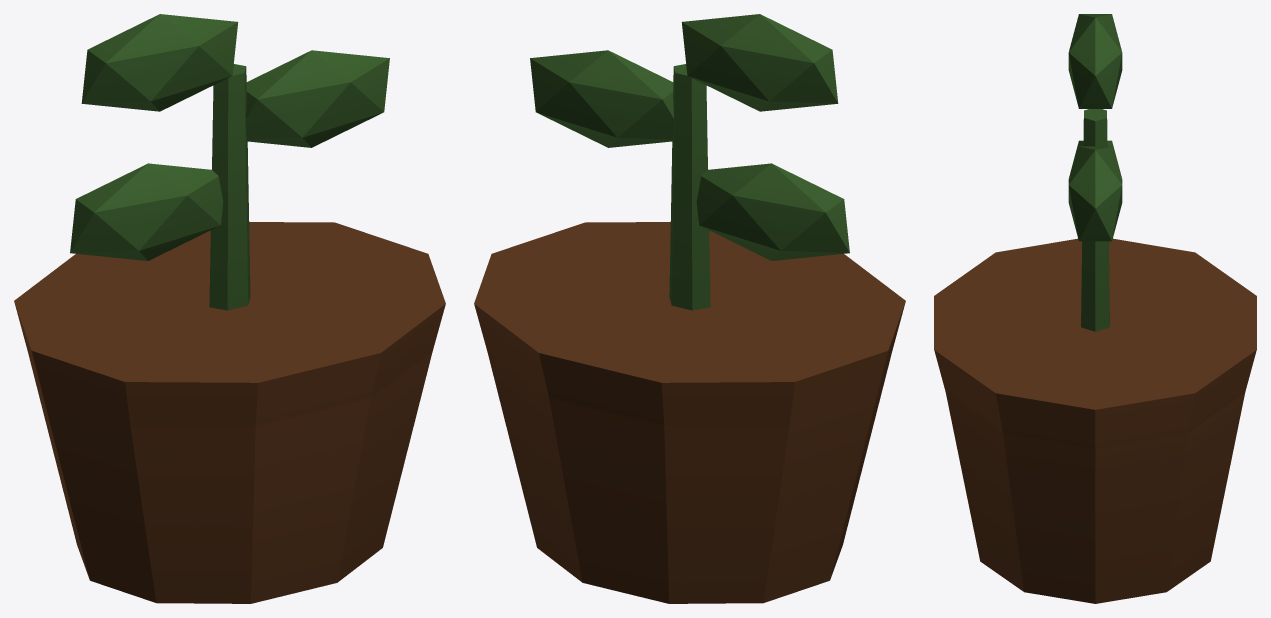
File: flower-pot.glb
3 renders of one model, left to right at view 1: azimuth 30°, elevation 25°; view 2: azimuth 150°, elevation 25°; view 3: azimuth 270°, elevation 25°, orthographic. The views are drawn at different scales.
Parts seen in each view (by area): view 1: plant_pot, pot_leaf_2, pot_leaf_0, pot_leaf_1, plant_stem; view 2: plant_pot, pot_leaf_2, pot_leaf_0, pot_leaf_1, plant_stem; view 3: plant_pot, pot_leaf_1, pot_leaf_2, plant_stem.
Part boxes in pixels (bbox=[...]): plant_pot: bbox=[14, 222, 445, 603]; pot_leaf_2: bbox=[81, 14, 238, 111]; pot_leaf_0: bbox=[70, 163, 223, 260]; pot_leaf_1: bbox=[246, 50, 389, 147]; plant_stem: bbox=[209, 64, 250, 310]; plant_pot: bbox=[474, 222, 905, 603]; pot_leaf_2: bbox=[681, 14, 838, 111]; pot_leaf_0: bbox=[696, 163, 849, 260]; pot_leaf_1: bbox=[530, 50, 673, 147]; plant_stem: bbox=[669, 64, 710, 310]; plant_pot: bbox=[934, 238, 1256, 603]; pot_leaf_1: bbox=[1068, 146, 1122, 241]; pot_leaf_2: bbox=[1068, 14, 1122, 108]; plant_stem: bbox=[1081, 109, 1109, 331].
Bounding box in the file's own units: 0.34 × 0.45 × 0.2663.
Materials: 1 (1 with a texture image).
